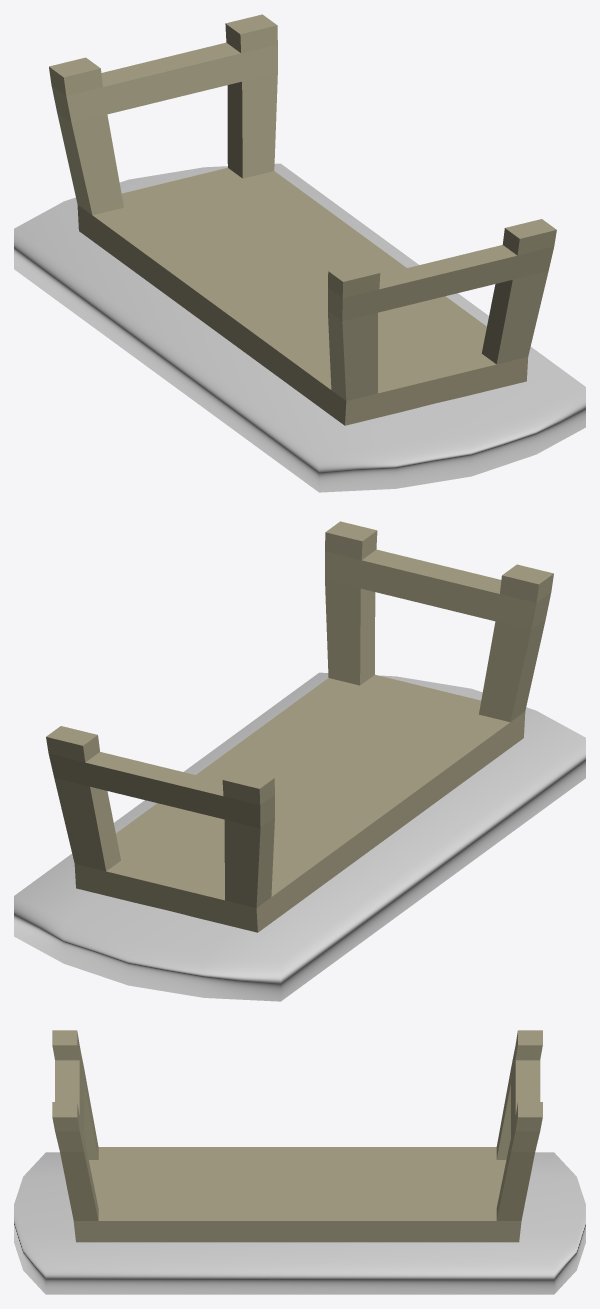
The model's file is Contemporary_Livingroom_TableWhite.fbx.
3 renders of one model, top to bottom at view 1: azimuth 30°, elevation 25°; view 2: azimuth 150°, elevation 25°; view 3: azimuth 270°, elevation 25°, orthographic. The views are drawn at different scales.
Parts seen in each view (by area): view 1: CoffeTableLegs, Contemporary_Livingroom_WhiteGranite_CoffeTable; view 2: CoffeTableLegs, Contemporary_Livingroom_WhiteGranite_CoffeTable; view 3: CoffeTableLegs, Contemporary_Livingroom_WhiteGranite_CoffeTable.
Boxes of the visible parts, bbox=[...] form: CoffeTableLegs: bbox=[49, 14, 556, 425]; Contemporary_Livingroom_WhiteGranite_CoffeTable: bbox=[14, 163, 585, 492]; CoffeTableLegs: bbox=[46, 521, 553, 932]; Contemporary_Livingroom_WhiteGranite_CoffeTable: bbox=[14, 672, 585, 1001]; CoffeTableLegs: bbox=[52, 1030, 542, 1242]; Contemporary_Livingroom_WhiteGranite_CoffeTable: bbox=[14, 1152, 585, 1294].
Size of the model in its own units: 227 by 165 by 505.
